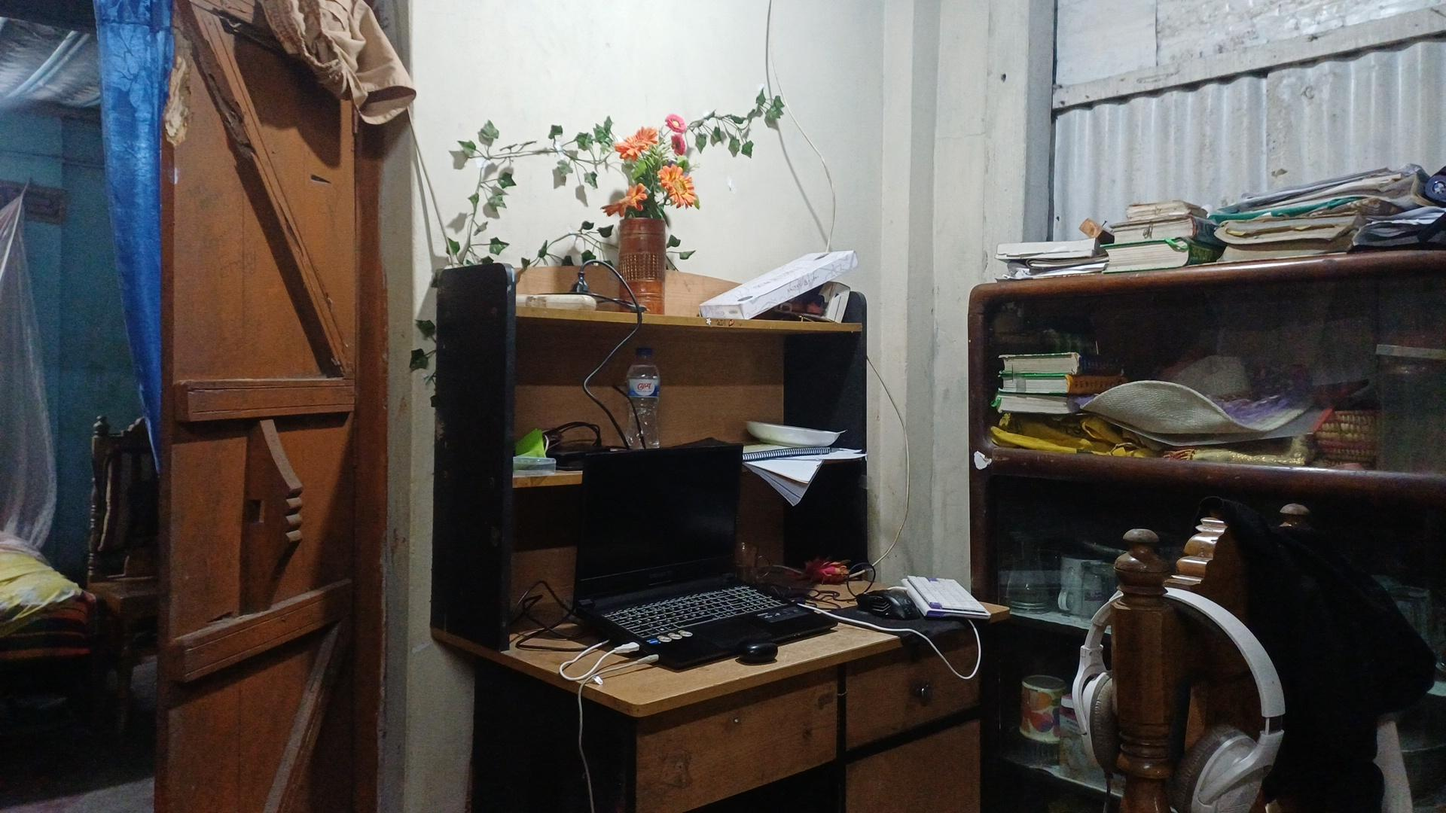Book: (994, 343, 1109, 427), (1222, 205, 1378, 259), (1101, 183, 1195, 272)
Bottle: (631, 333, 678, 449)
Box: (693, 294, 870, 345)
Door: (6, 8, 433, 802)
Drawer: (831, 679, 999, 750)
Keyboard: (914, 558, 1024, 622)
Laptop: (557, 488, 773, 698)
Mouse: (865, 583, 917, 627)
Plant: (611, 108, 679, 307)
Plate: (731, 398, 852, 448)
